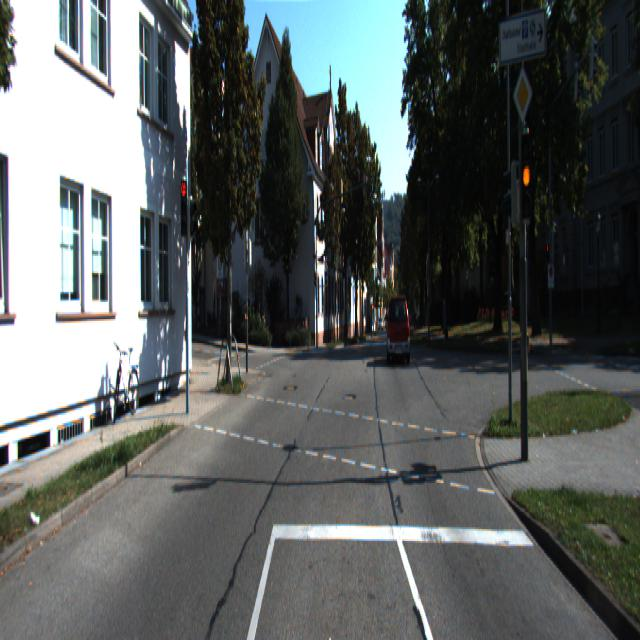Car: (388, 295, 411, 364)
